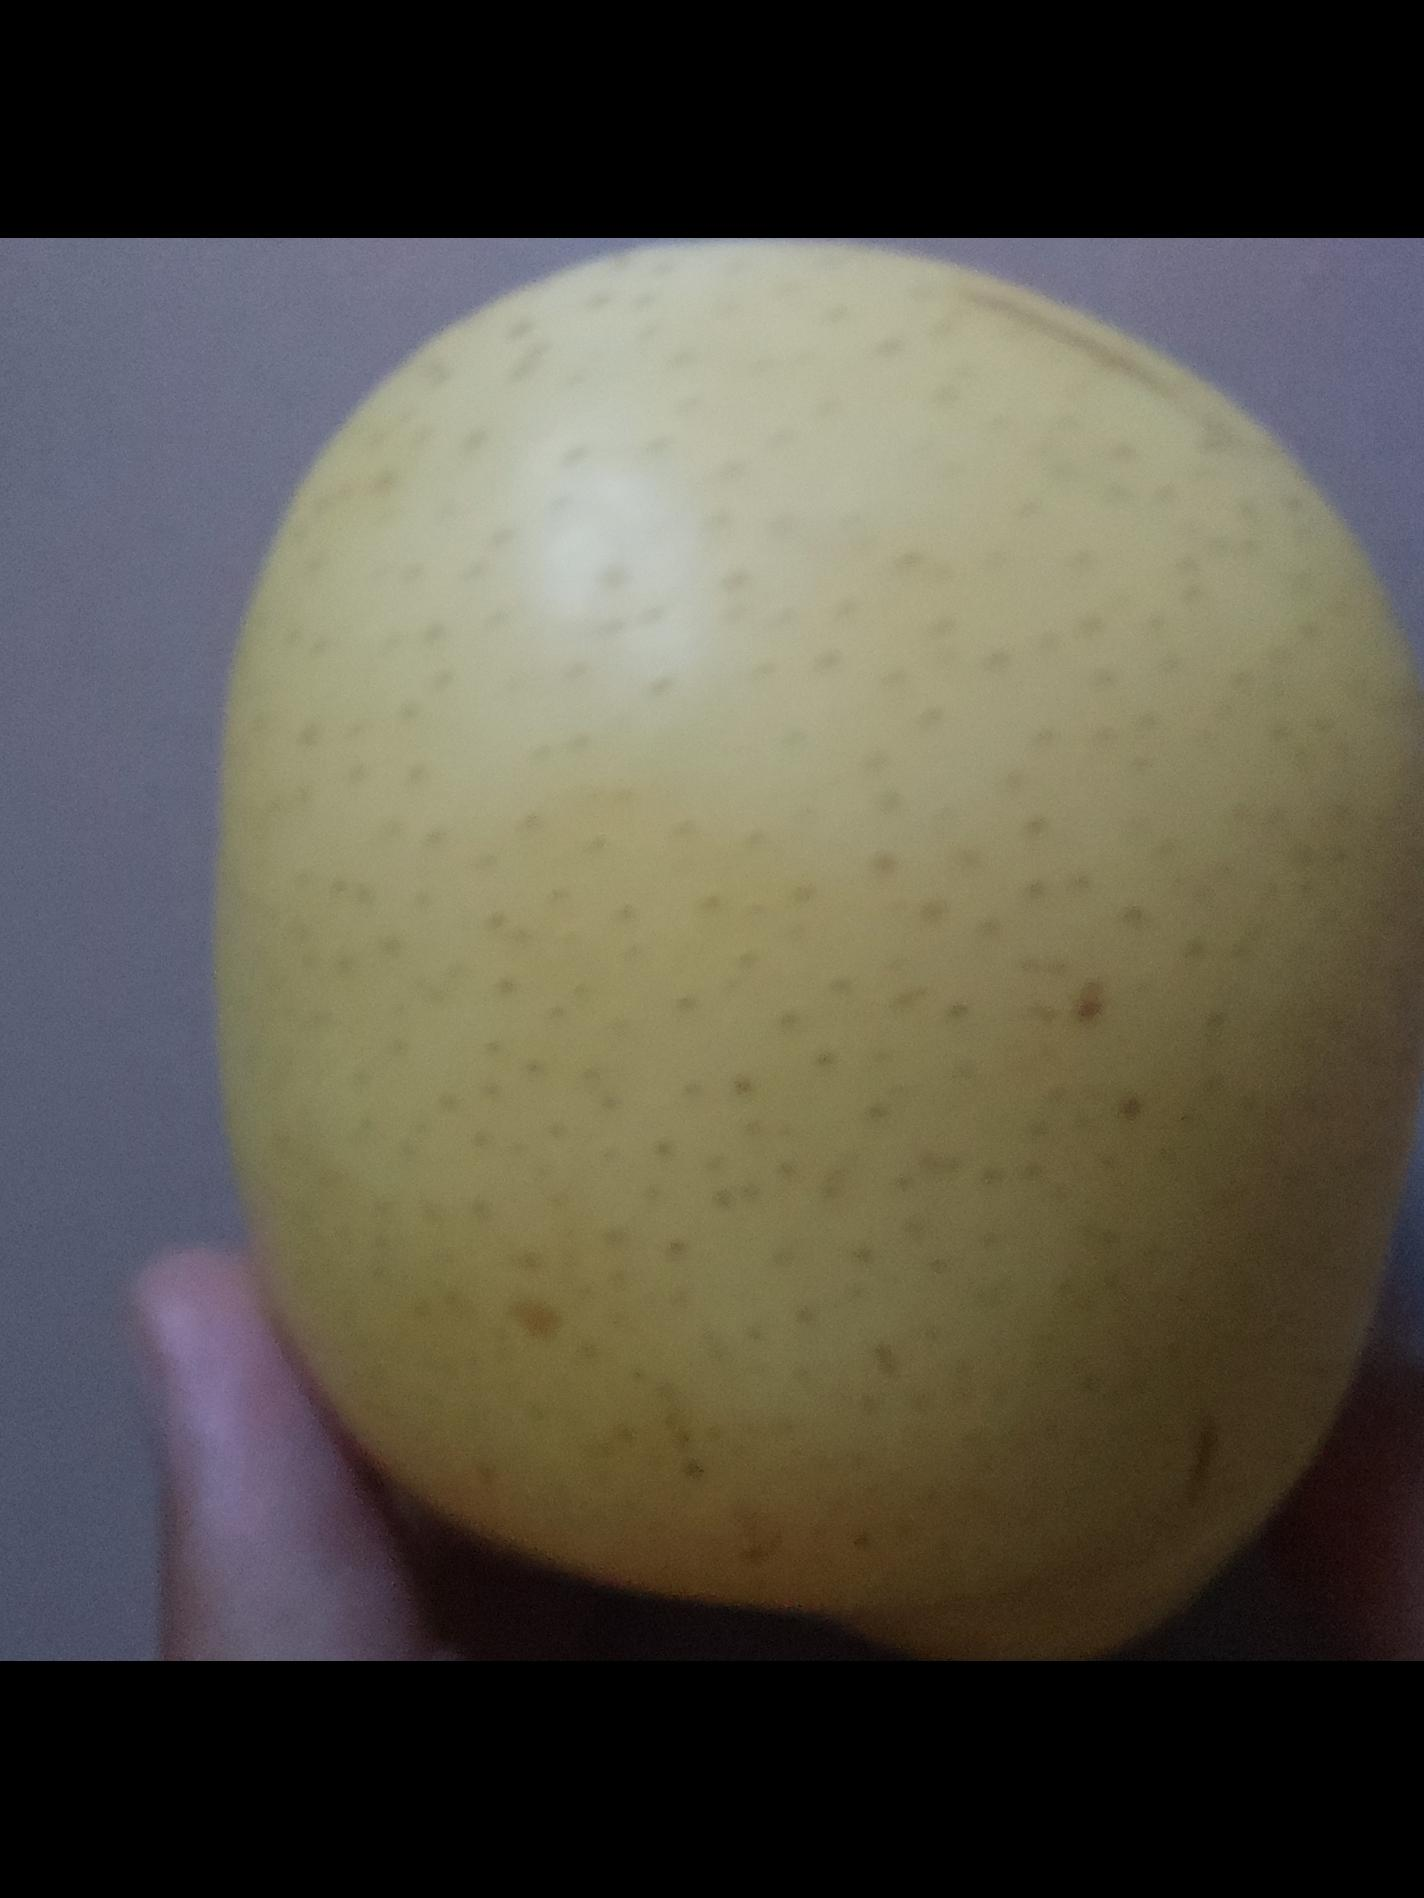Good Pear: (117, 236, 1424, 1247)
